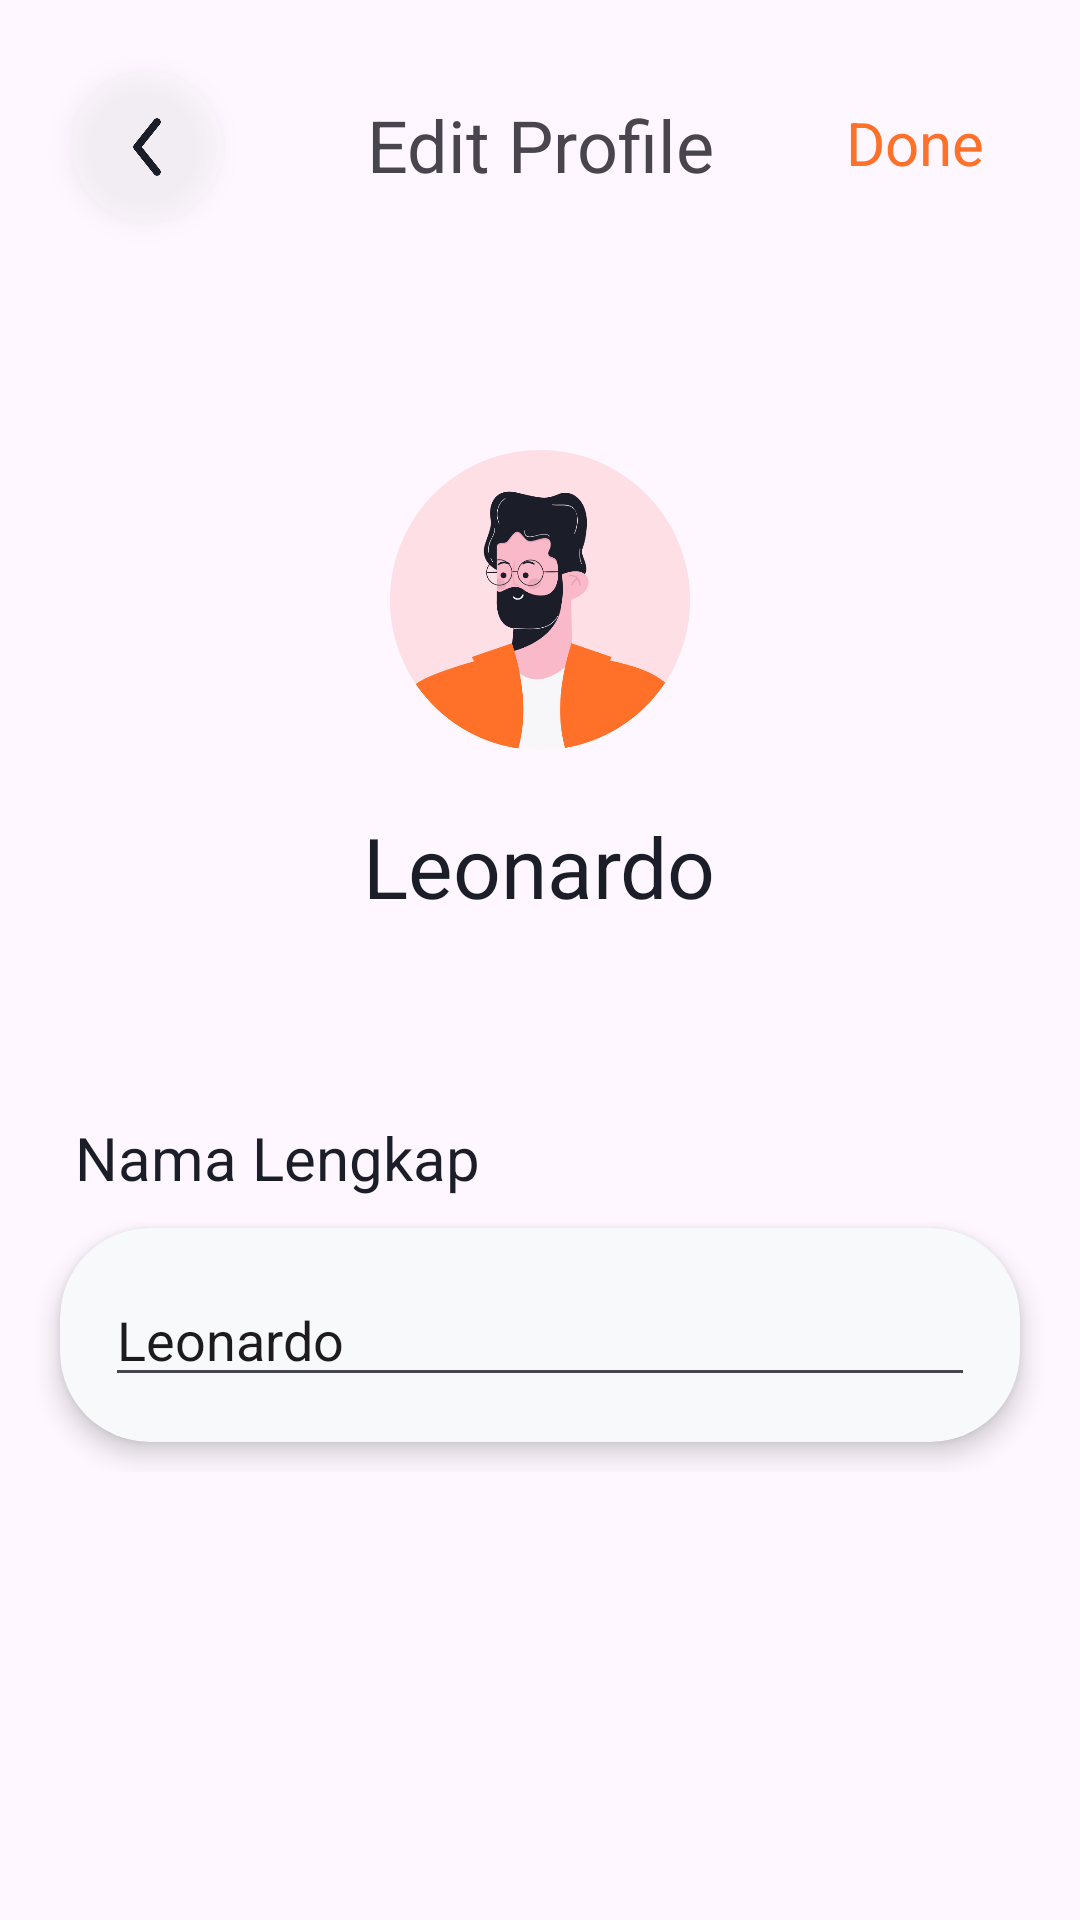

Icons on this 1080 × 1920 Android screen, each with the point to tap as point (x, y):
arrow: point (142, 148)
profpic: point (540, 599)
